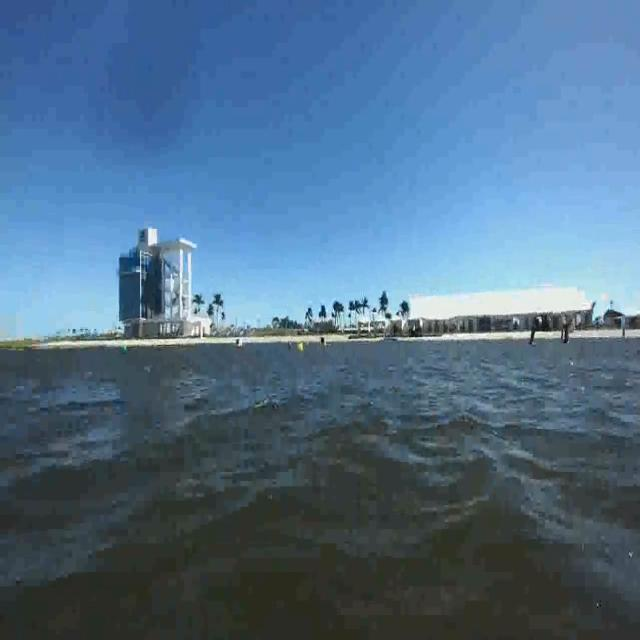yellow-buoy: (296, 342, 304, 354)
